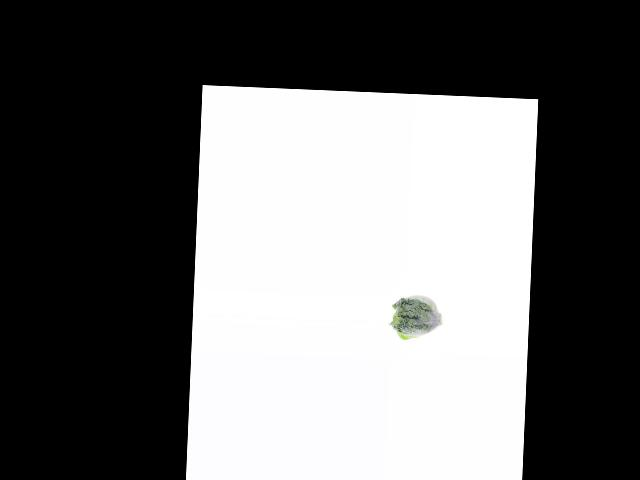lettuce: (389, 292, 443, 343)
